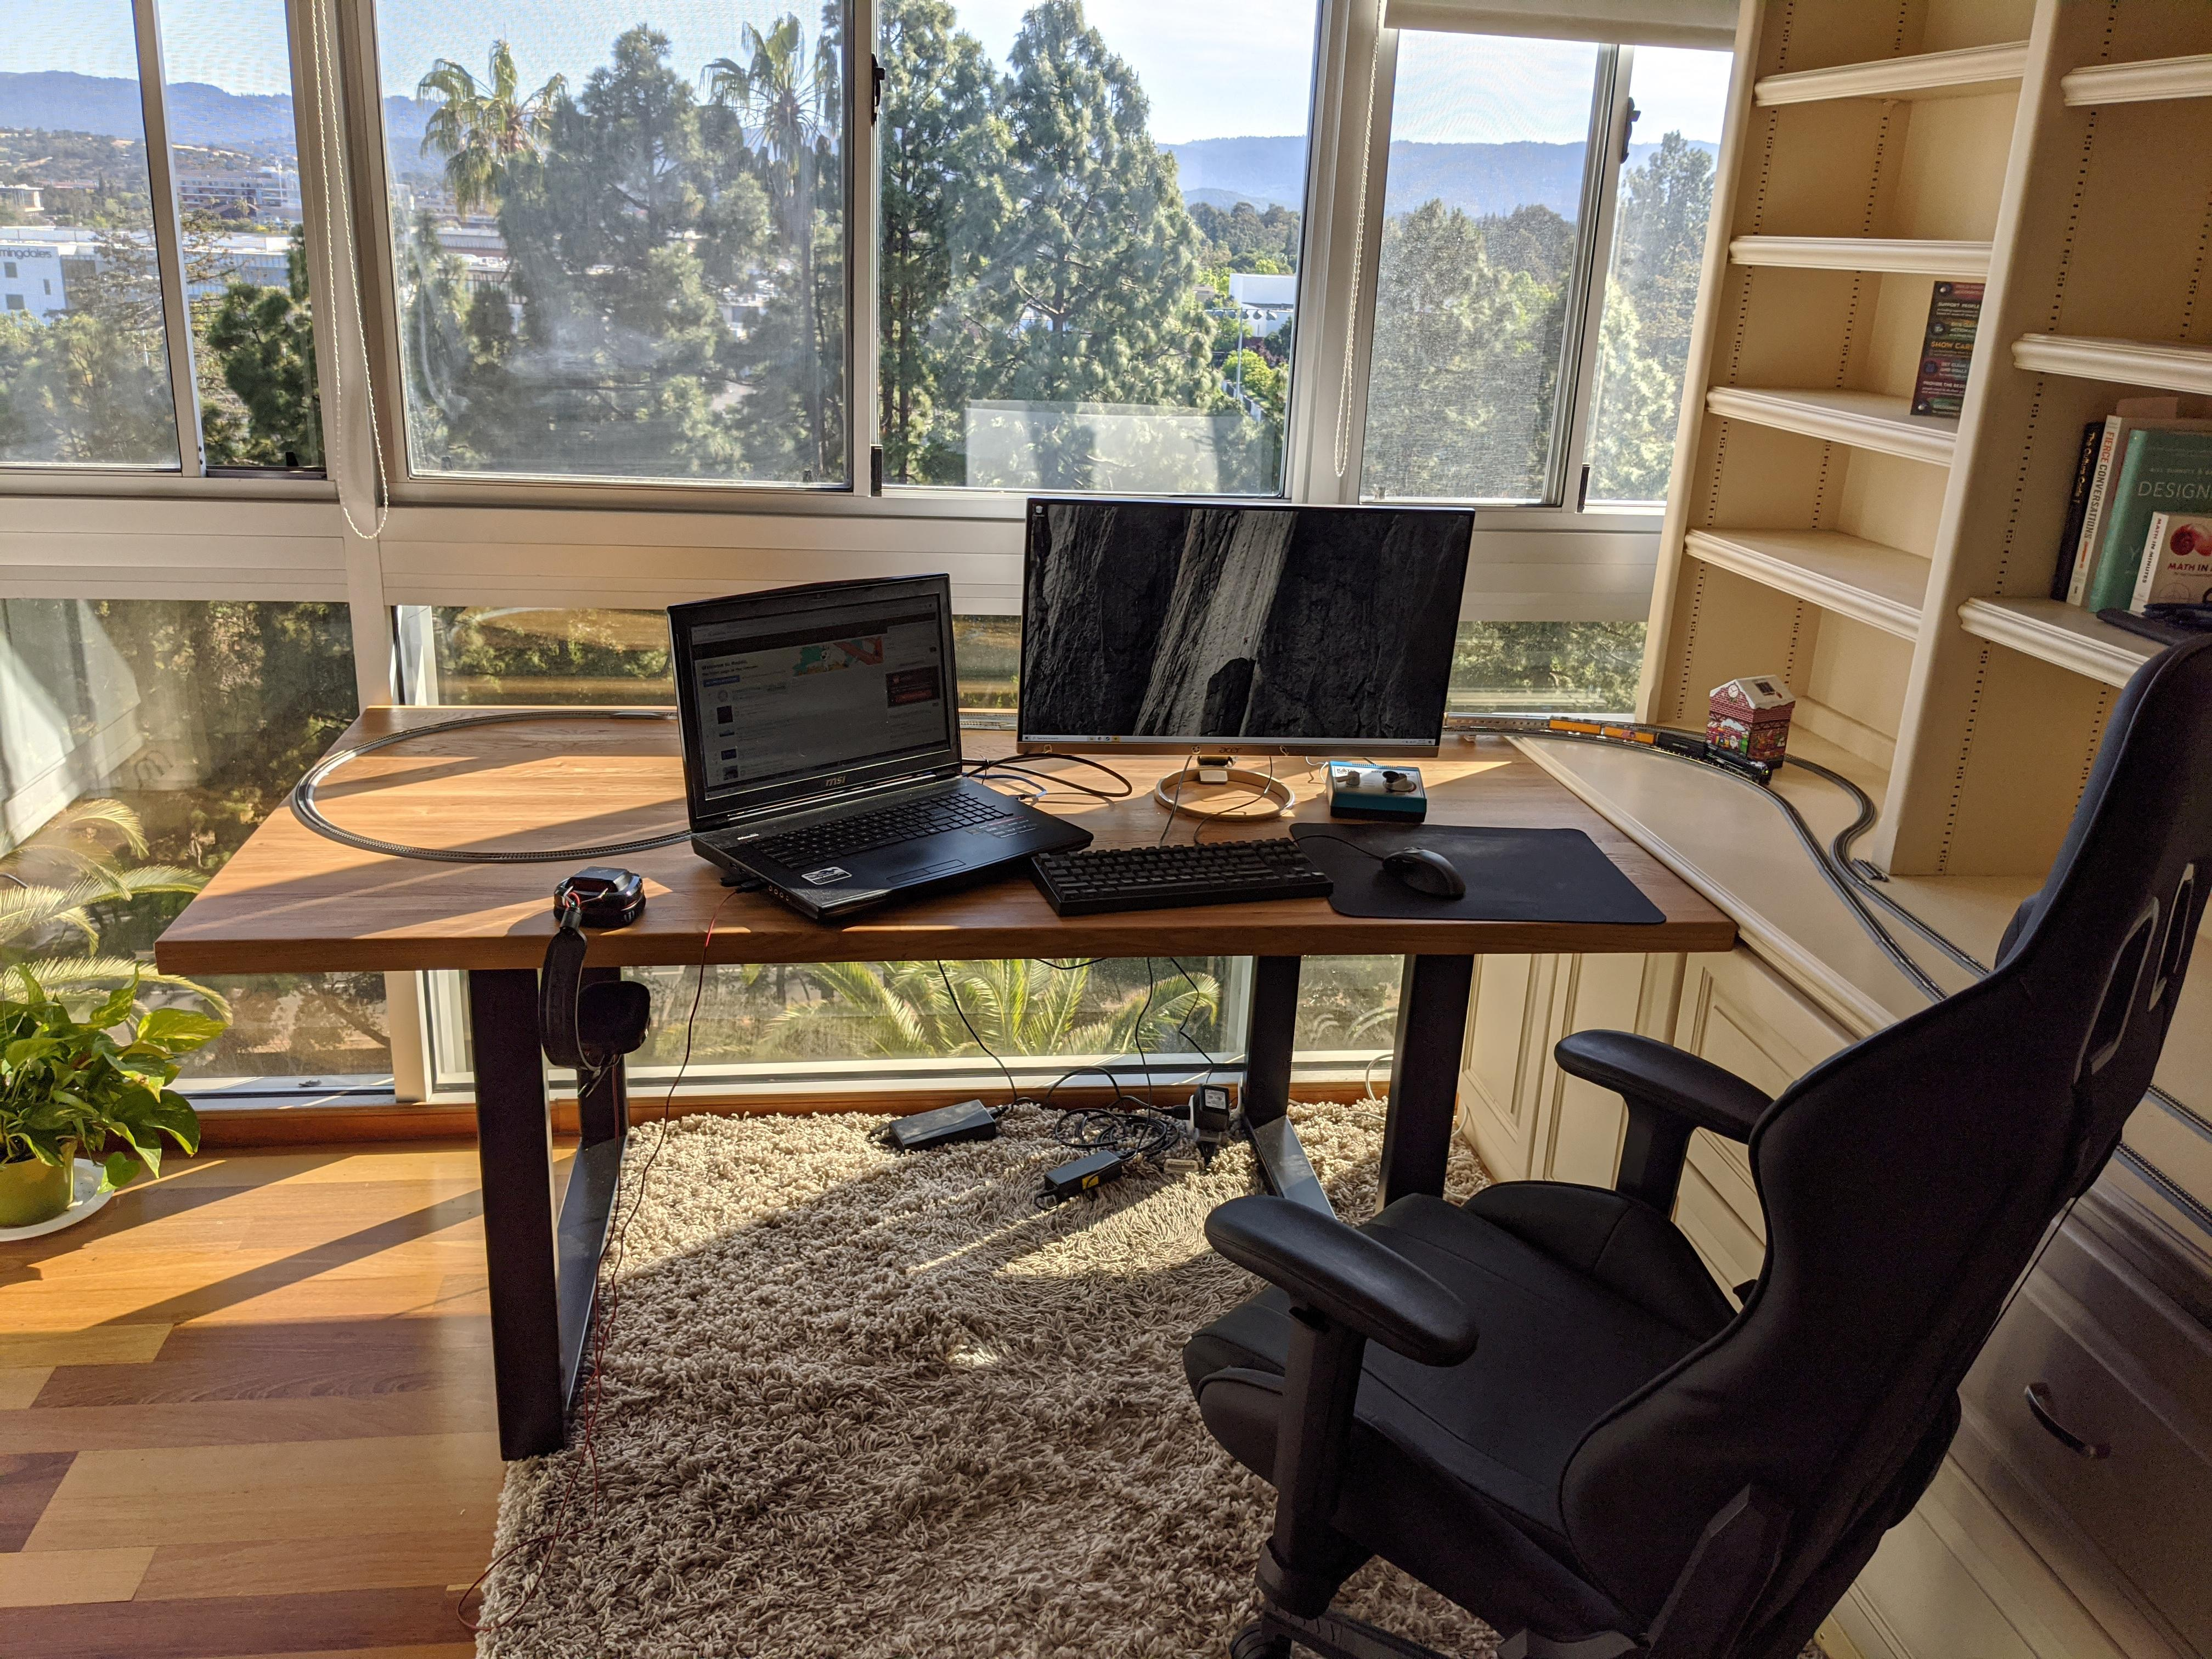Chair (Gaming): (1177, 626, 2212, 1659)
Decoration (Miniature): (1541, 706, 1778, 800), (1705, 671, 1799, 781)
Desk (Generic): (152, 704, 1747, 1460)
External Sound Card (Pre-amplifier): (1320, 756, 1433, 828)
Headphones (with Microphone): (526, 856, 648, 1107)
Keyboard (Generic): (1031, 833, 1336, 924)
Laptop (Windows): (664, 570, 1097, 929)
Monitor (Landscape): (1015, 493, 1480, 826)
Monitor (Laptop): (657, 579, 977, 817)
Mouse (Ergonomic): (1379, 845, 1470, 904)
Mousepad (Gaming): (1289, 816, 1665, 927)
Power Strip: (1157, 1072, 1252, 1180)
